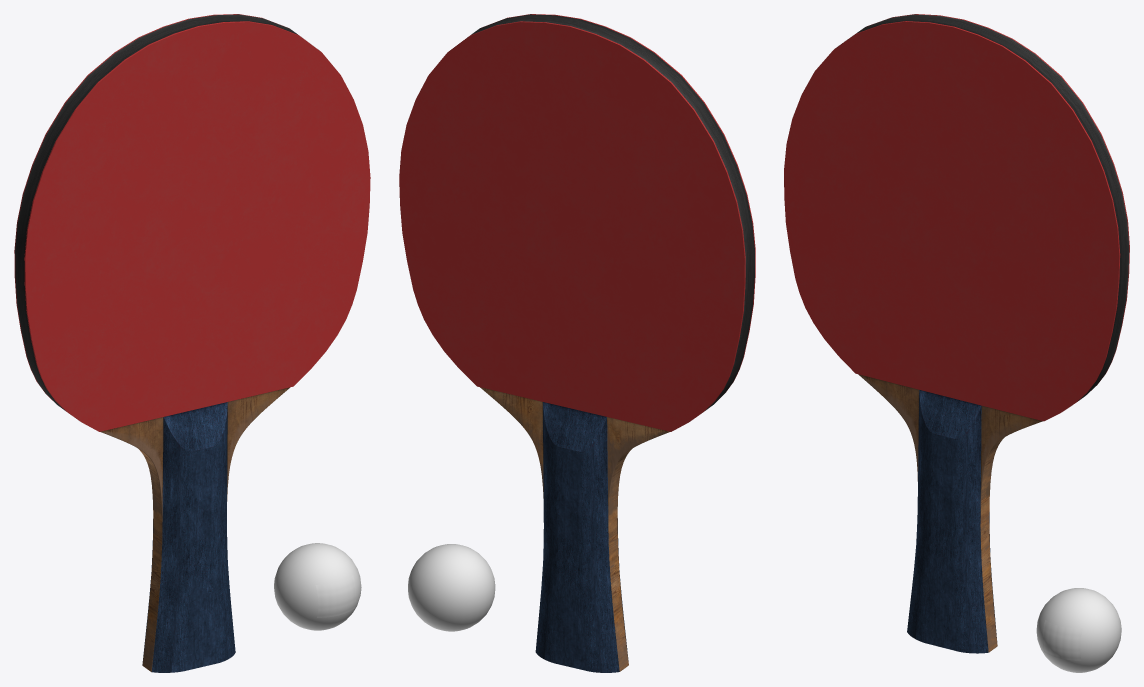
File: Paddle+ball.fbx
The picture shows the model from 3 angles, left to right: view 1: azimuth 30°, elevation 25°; view 2: azimuth 150°, elevation 25°; view 3: azimuth 330°, elevation 25°; orthographic projection. The views are drawn at different scales.
Parts seen in each view (by area): view 1: raquette.001, ppb, Plane; view 2: raquette.001, ppb; view 3: raquette.001, ppb, Plane.
Part boxes in pixels (bbox=[...]): raquette.001: bbox=[14, 14, 370, 672]; ppb: bbox=[274, 543, 361, 630]; Plane: bbox=[315, 575, 355, 617]; raquette.001: bbox=[399, 14, 755, 672]; ppb: bbox=[408, 544, 495, 631]; raquette.001: bbox=[784, 14, 1129, 653]; ppb: bbox=[1036, 588, 1121, 672]; Plane: bbox=[1042, 620, 1082, 660].
Bounding box in the file's own units: 35.14 × 61.74 × 7.75.
